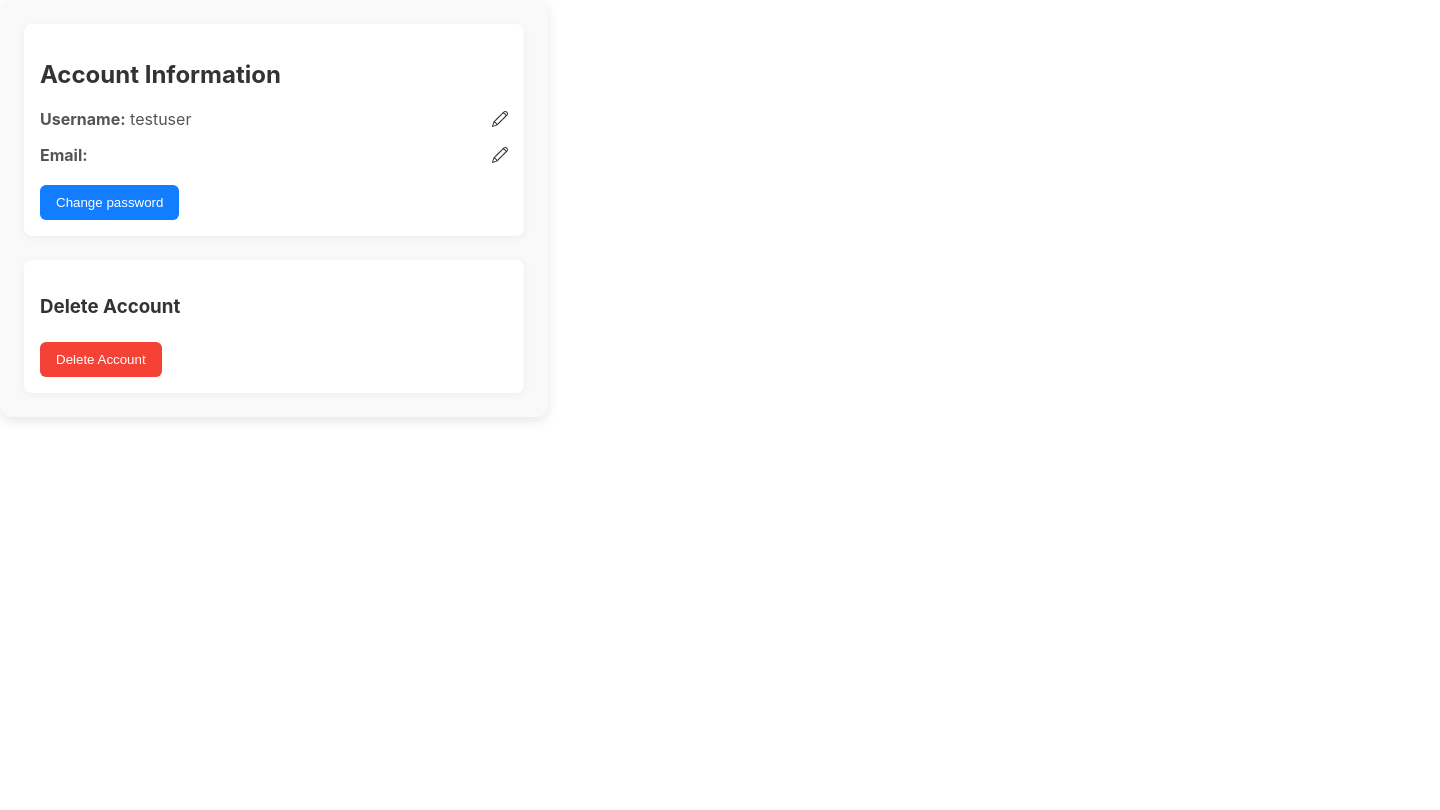
AccountSettings component › opens username popup when pencil clicked
This screenshot has width=1440, height=810.
Click the icon with test id "update-username": (500, 119) [492, 111, 508, 127]
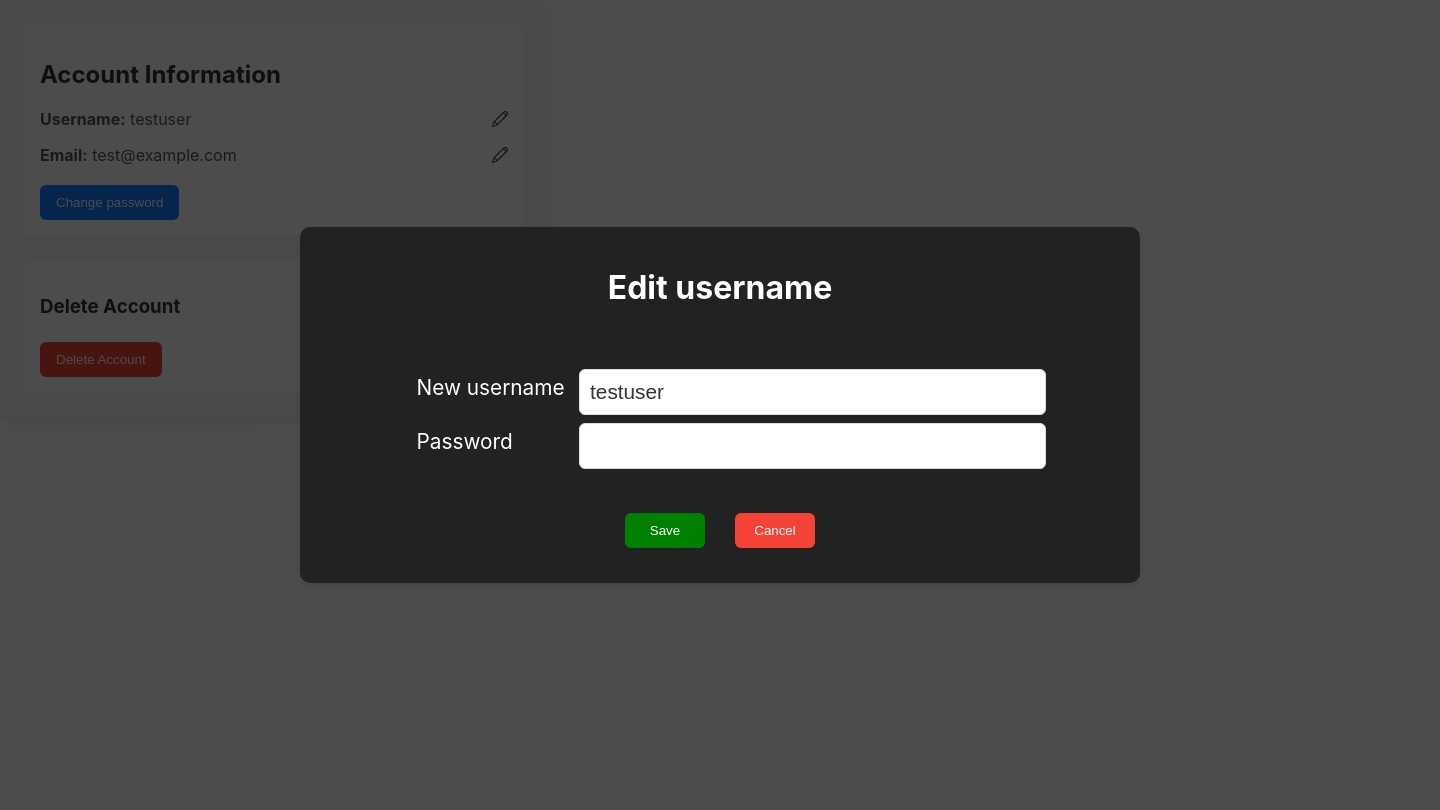
Expected: the heading "Edit username" is shown, [608, 268, 832, 307]
